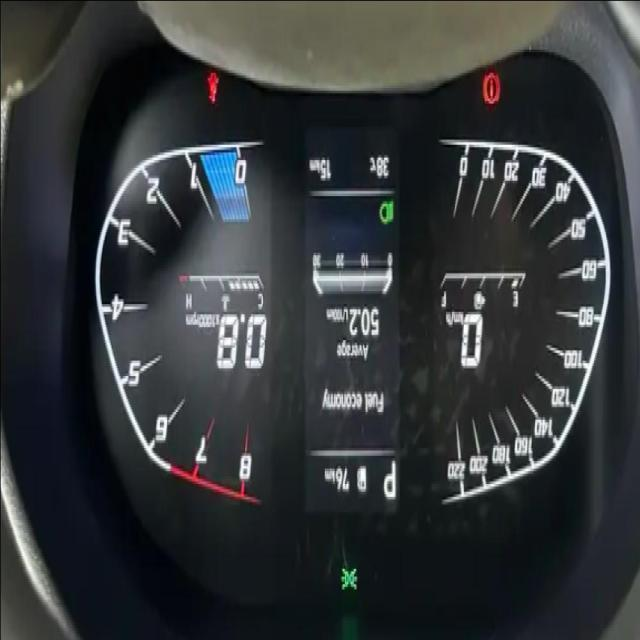Seat Belt: (206, 72, 220, 104)
